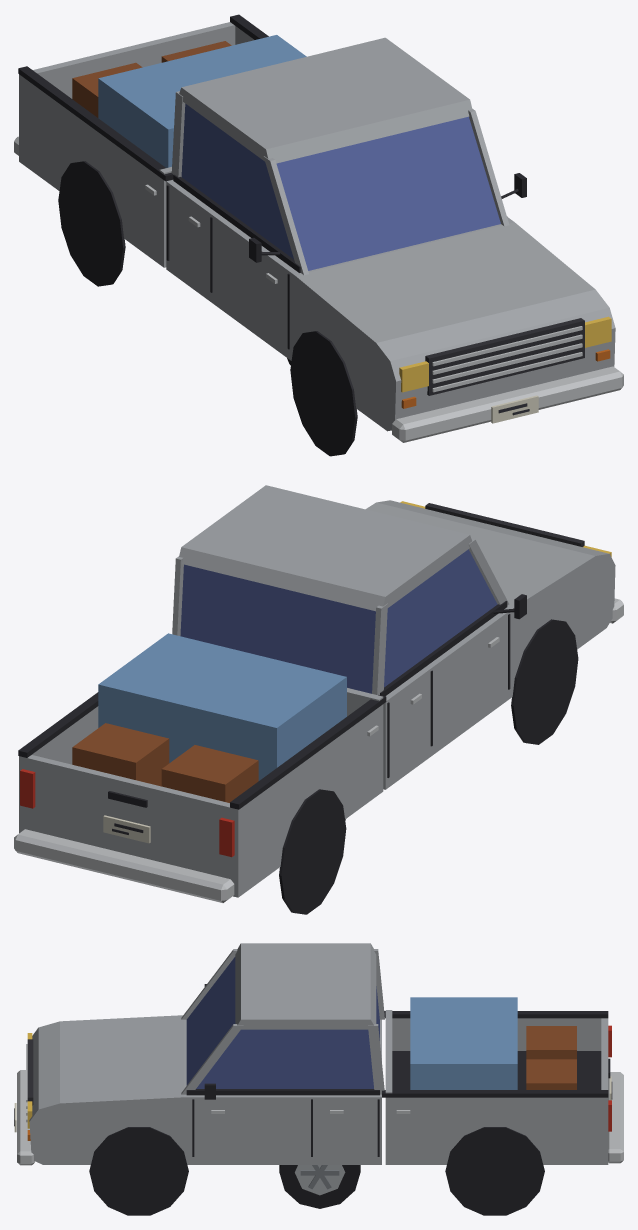
Rendered from pickup.glb.
3 views of the same model, one above another, from view 1: azimuth 30°, elevation 25°; view 2: azimuth 150°, elevation 25°; view 3: azimuth 270°, elevation 25° (orthographic). The views are drawn at different scales.
Parts seen in each view (by area): view 1: body, lights; view 2: body, lights; view 3: body, wheel0, lights.
Boxes of the visible parts, <box> form: body: <box>14,14,623,456</box>; lights: <box>399,316,611,392</box>; body: <box>14,485,623,914</box>; lights: <box>20,501,611,857</box>; body: <box>14,943,623,1215</box>; wheel0: <box>279,1165,360,1208</box>; lights: <box>27,1025,611,1131</box>.
Bounding box in the file's own units: 2.12 × 2.17 × 5.4.
